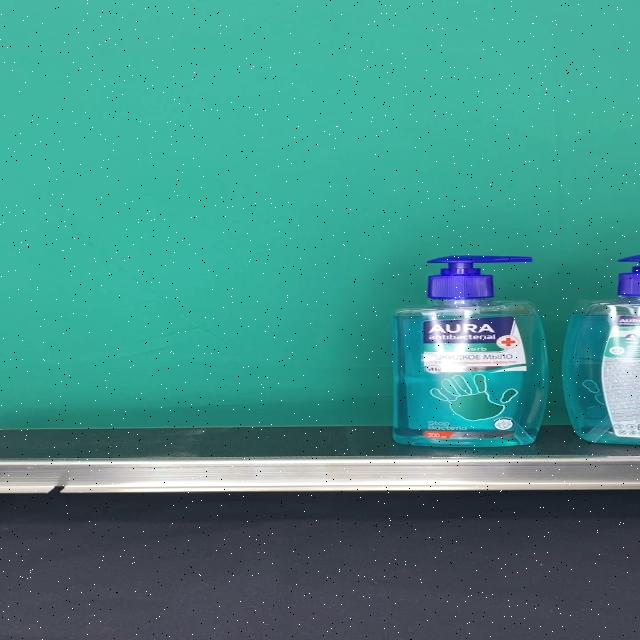Bottle: (392, 255, 547, 448)
Cap: (426, 255, 534, 299)
